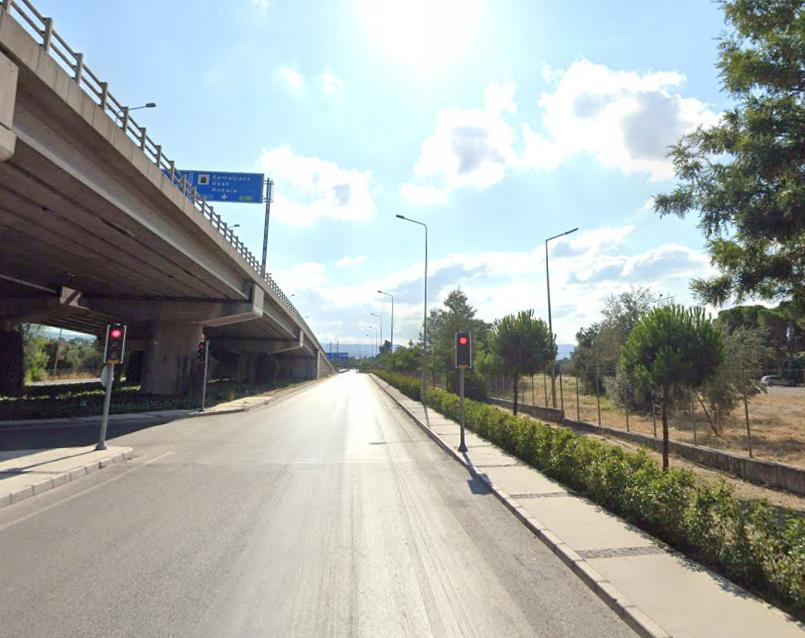redlight: (107, 324, 123, 359), (456, 333, 470, 364), (199, 343, 205, 360)
